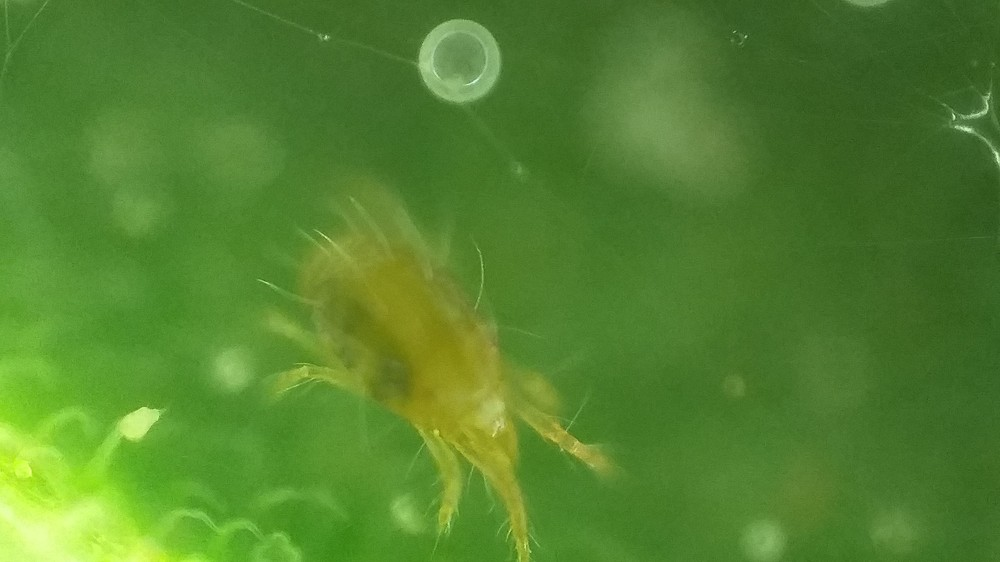Aracnido Rojo: (255, 189, 644, 558)
